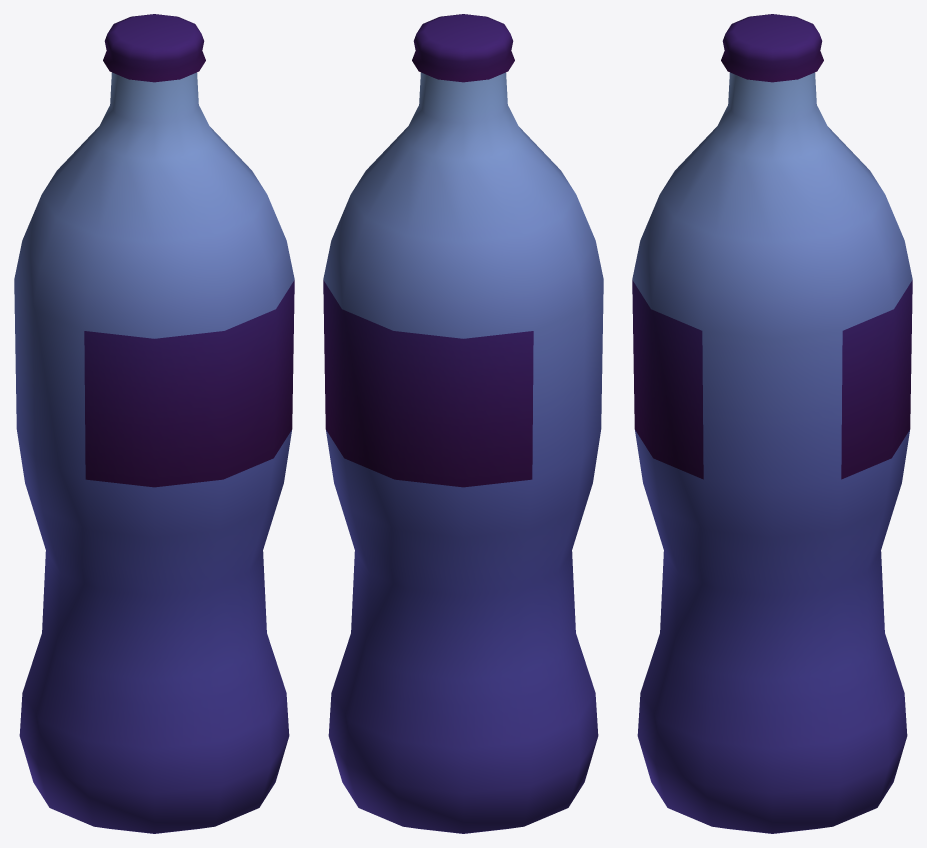
The model's file is Bottle_06.glb.
The picture shows the model from 3 angles, left to right: view 1: azimuth 30°, elevation 25°; view 2: azimuth 150°, elevation 25°; view 3: azimuth 270°, elevation 25°; orthographic projection.
Visible parts, largest first — view 1: Bottle_06; view 2: Bottle_06; view 3: Bottle_06.
Part boxes in pixels (x1=…): Bottle_06: x1=14, y1=14, x2=294, y2=833; Bottle_06: x1=323, y1=14, x2=603, y2=833; Bottle_06: x1=632, y1=14, x2=912, y2=833.
Bounding box in the file's own units: 0.2296 × 0.6916 × 0.2296.
1 material, 1 textured.
